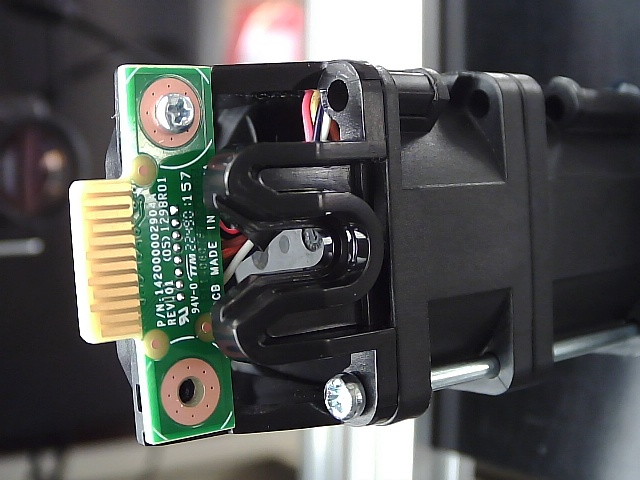3_1: (157, 345, 229, 432)
